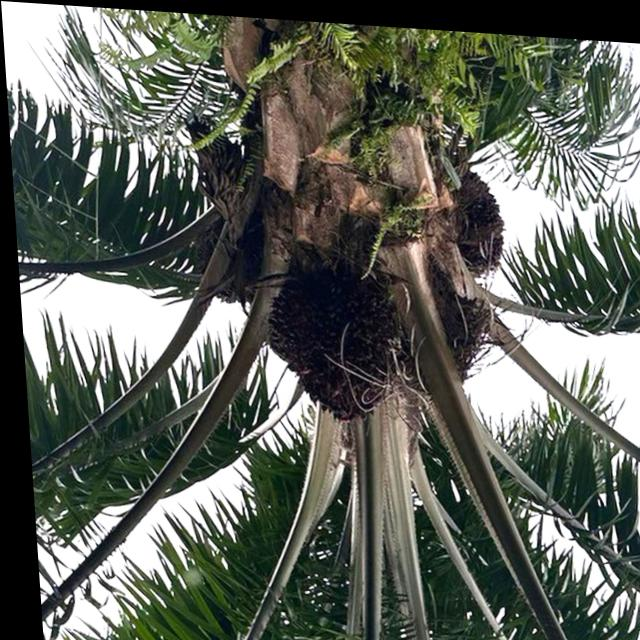ripe: (244, 255, 401, 424)
